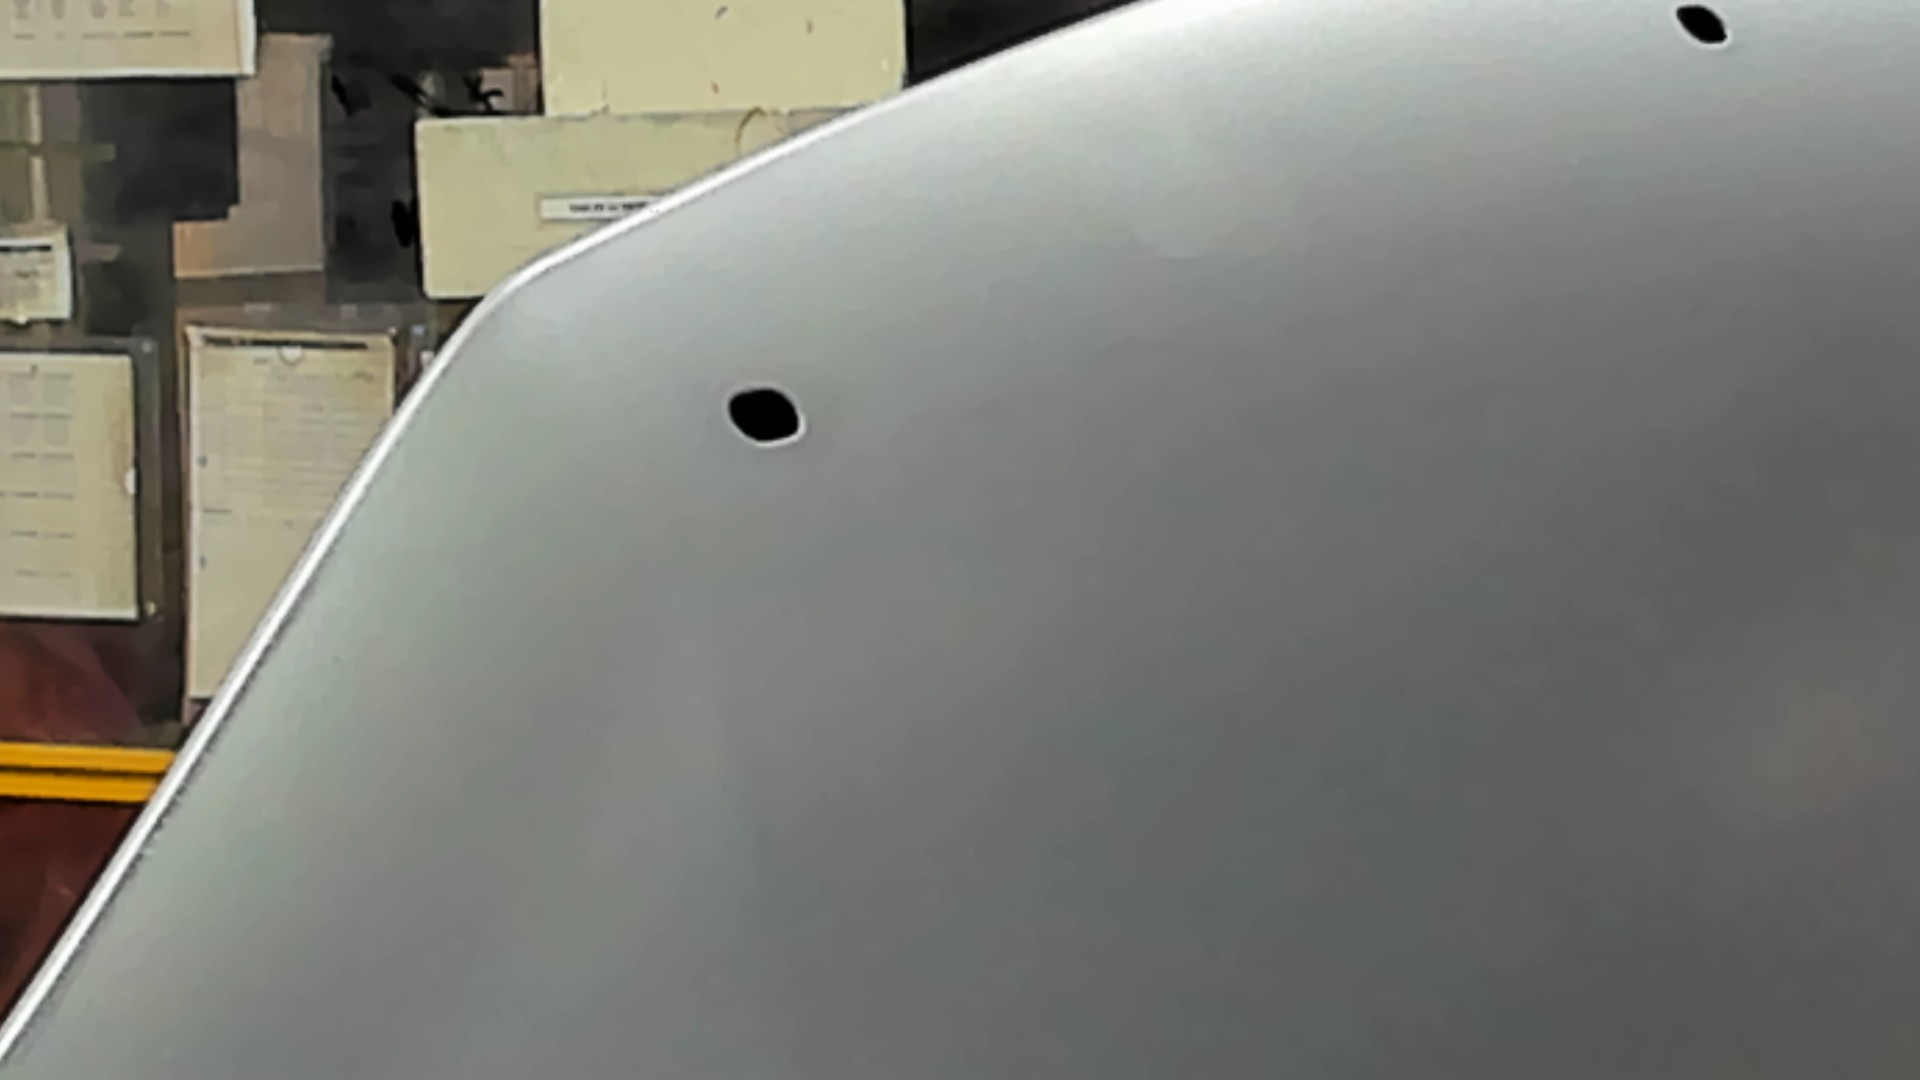amorfo: (719, 377, 815, 455), (1665, 3, 1733, 51)
